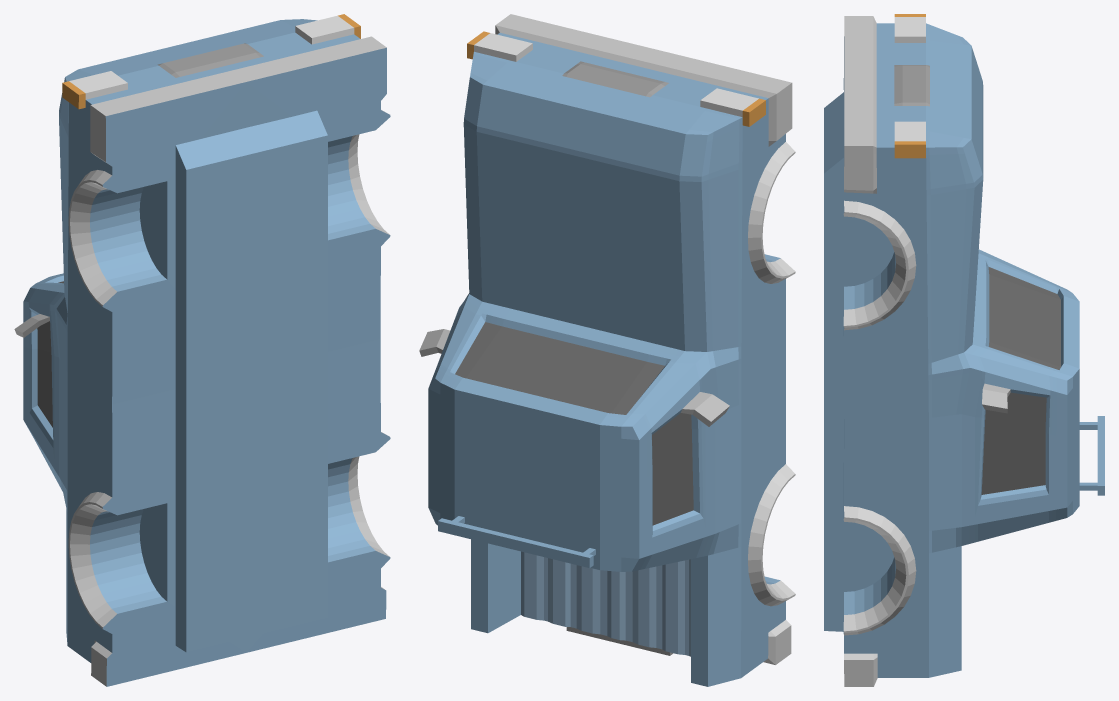
The model's file is Car.fbx.
The picture shows the model from 3 angles, left to right: view 1: azimuth 30°, elevation 25°; view 2: azimuth 150°, elevation 25°; view 3: azimuth 270°, elevation 25°; orthographic projection. The views are drawn at different scales.
Visible parts, largest first — view 1: Car; view 2: Car; view 3: Car.
Part boxes in pixels (x1,y1,x2,y2): Car: (14,14,390,686); Car: (419,14,795,686); Car: (824,14,1104,686).
Bounding box in the file's own units: 204 × 370 × 173.
